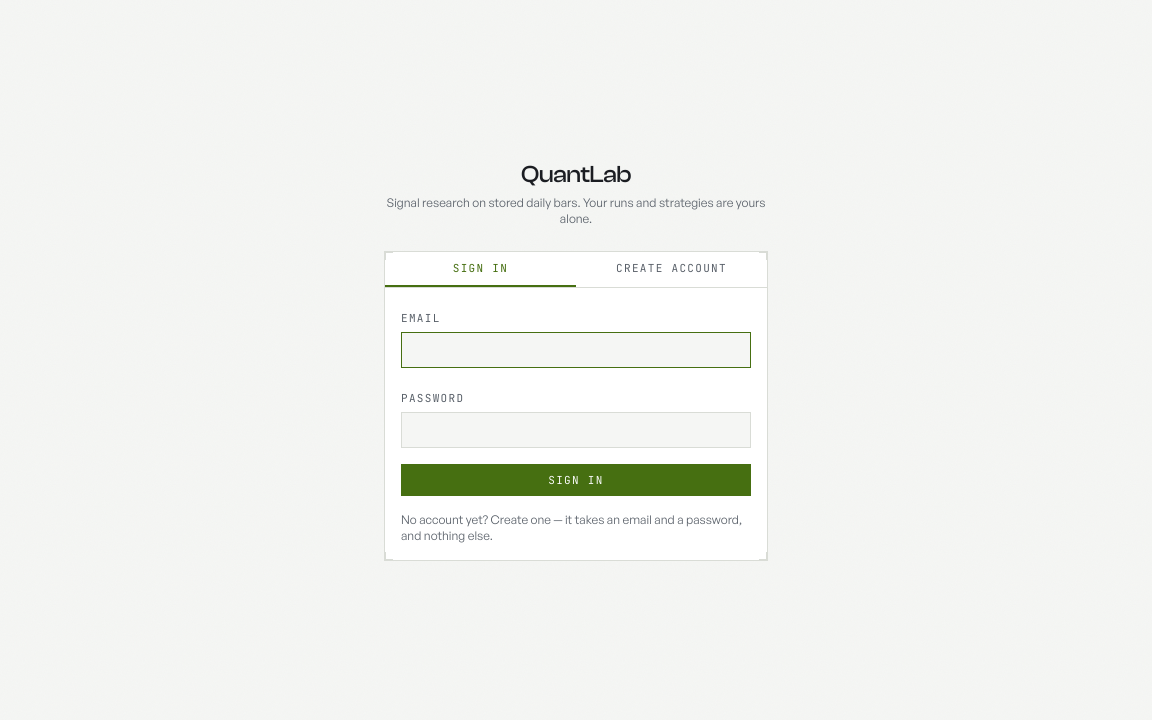
Scenario: LoginScreen › requires the policy length before it will create an account
Click the tab "Create account" at [672, 270], box [576, 252, 767, 287]
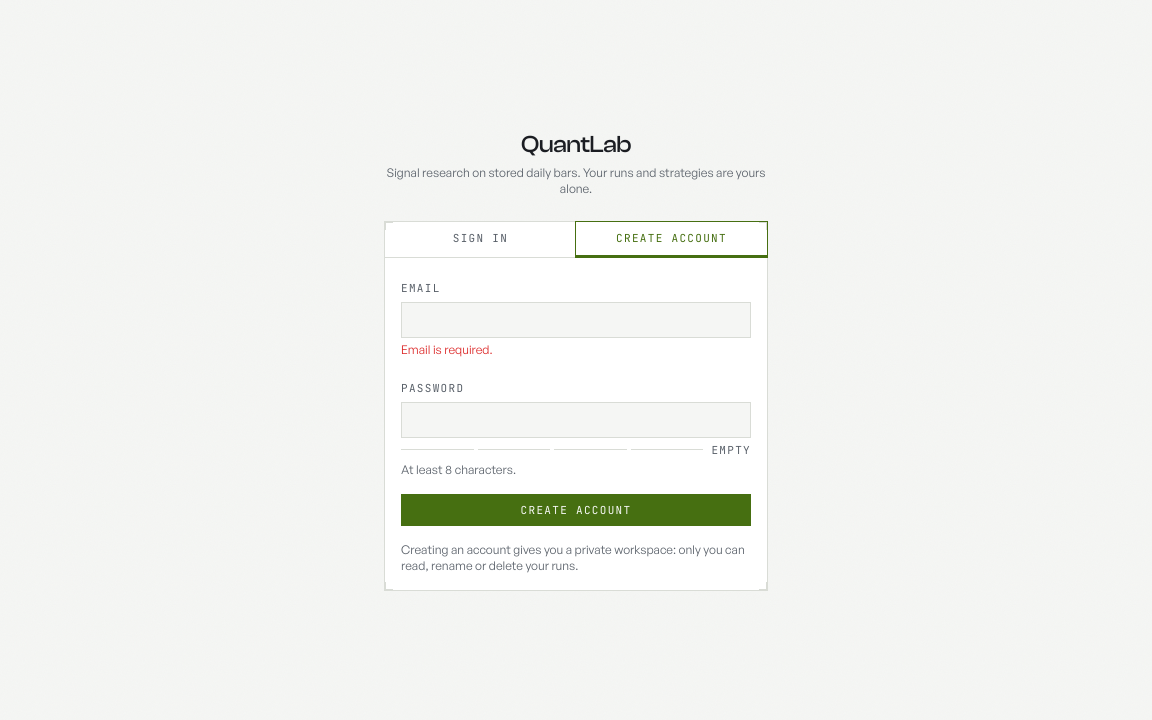
Type "quant@example.com" into the field labelled "Email" at [576, 320], box [401, 302, 751, 338]
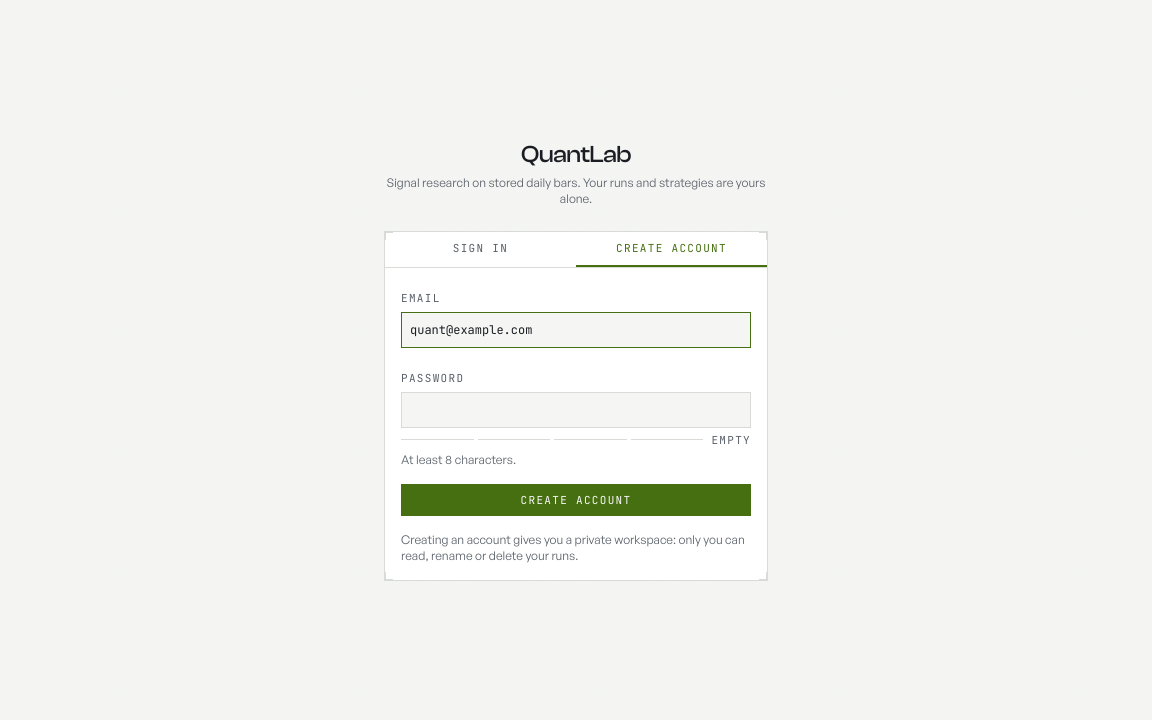
Type "short" into the password field labelled "Password" at [576, 410], box [401, 392, 751, 428]
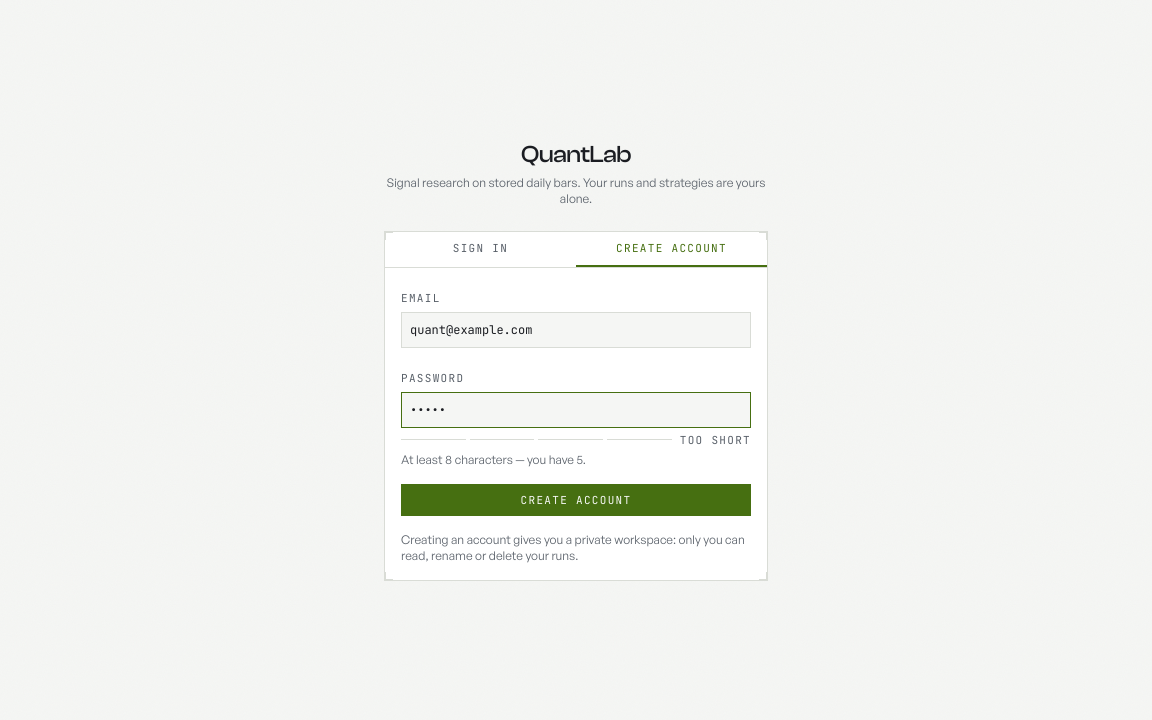
Click the button "Create account" at [576, 500], box [401, 484, 751, 516]
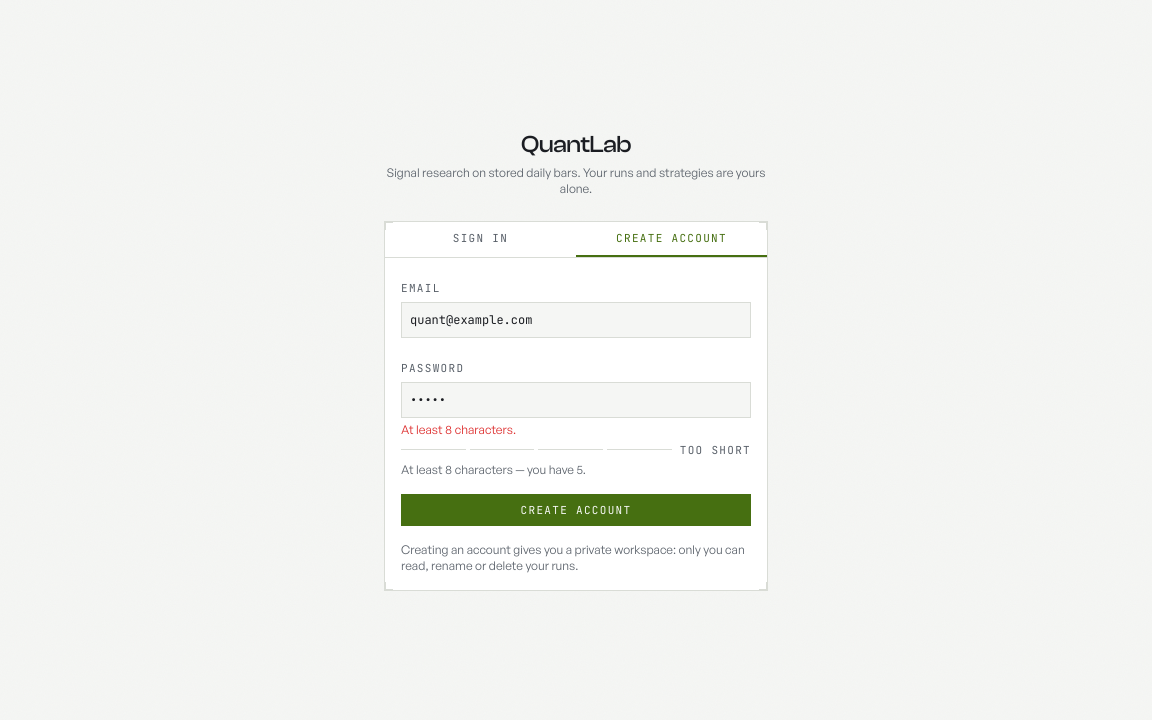
Expected: the message shows "At least 8 characters", [401, 422, 516, 436]
